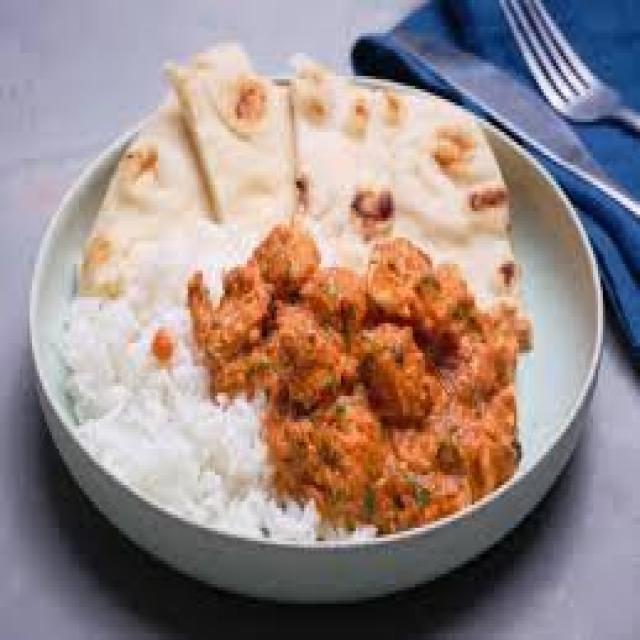Butter Chicken: (192, 239, 525, 546)
